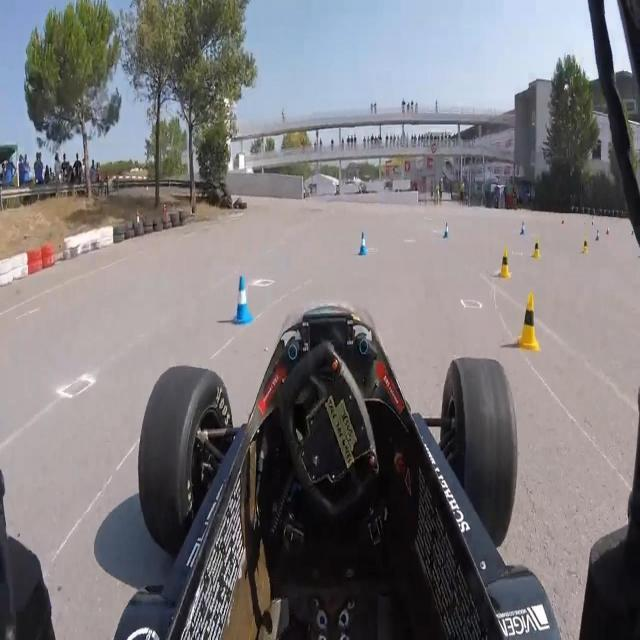blue_cone: (235, 276, 253, 330), (358, 230, 368, 259), (442, 220, 451, 240), (520, 221, 526, 235), (595, 229, 600, 241)
orange_cone: (606, 227, 610, 236)
yellow_cone: (520, 297, 542, 348), (499, 250, 512, 282), (533, 238, 542, 259), (581, 238, 588, 255)
